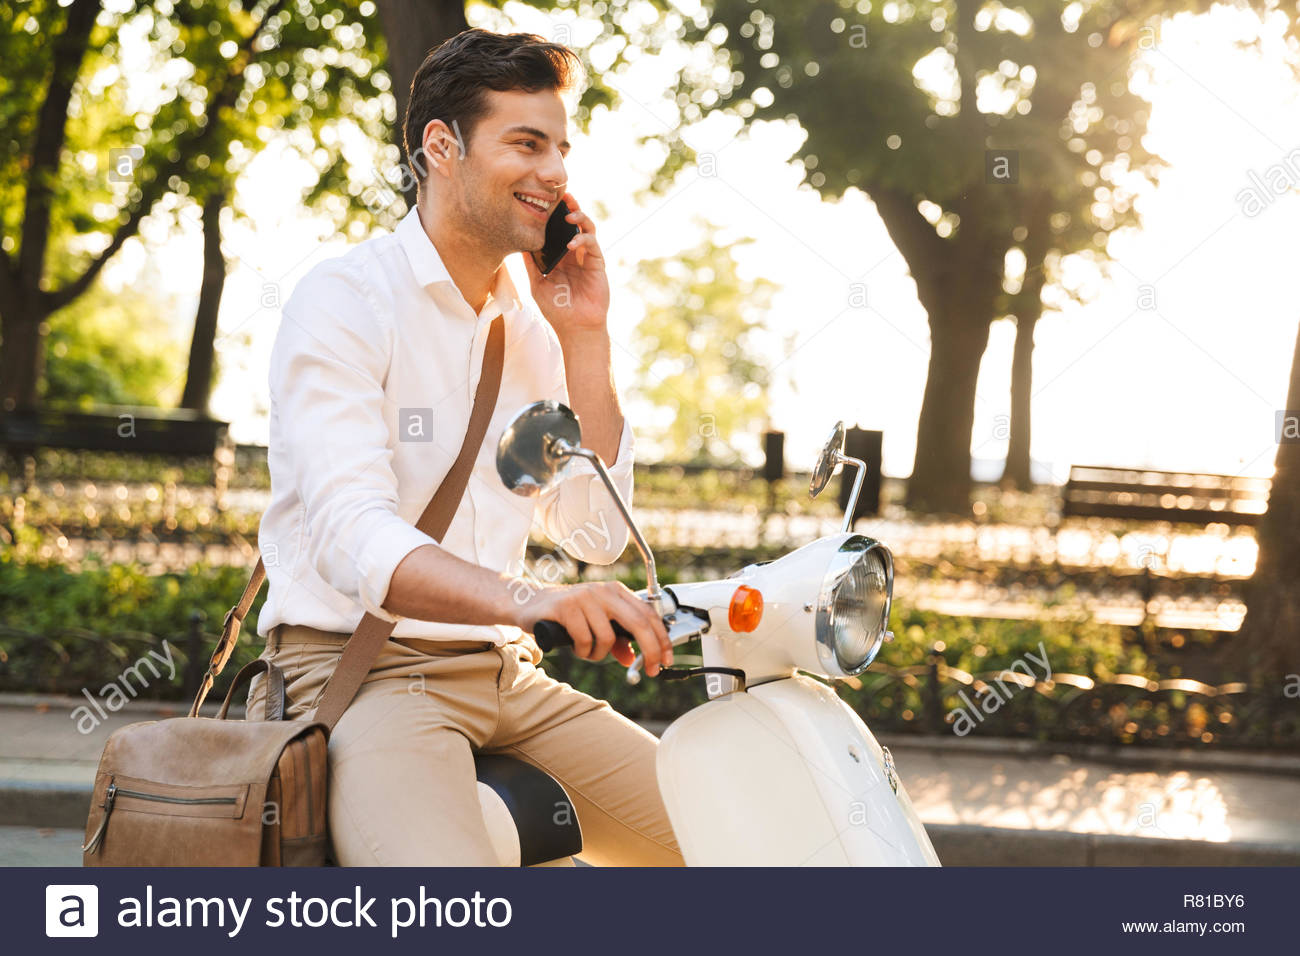dieu khien xe may: (254, 26, 936, 867)
su dung dien thoai: (408, 28, 612, 327)
